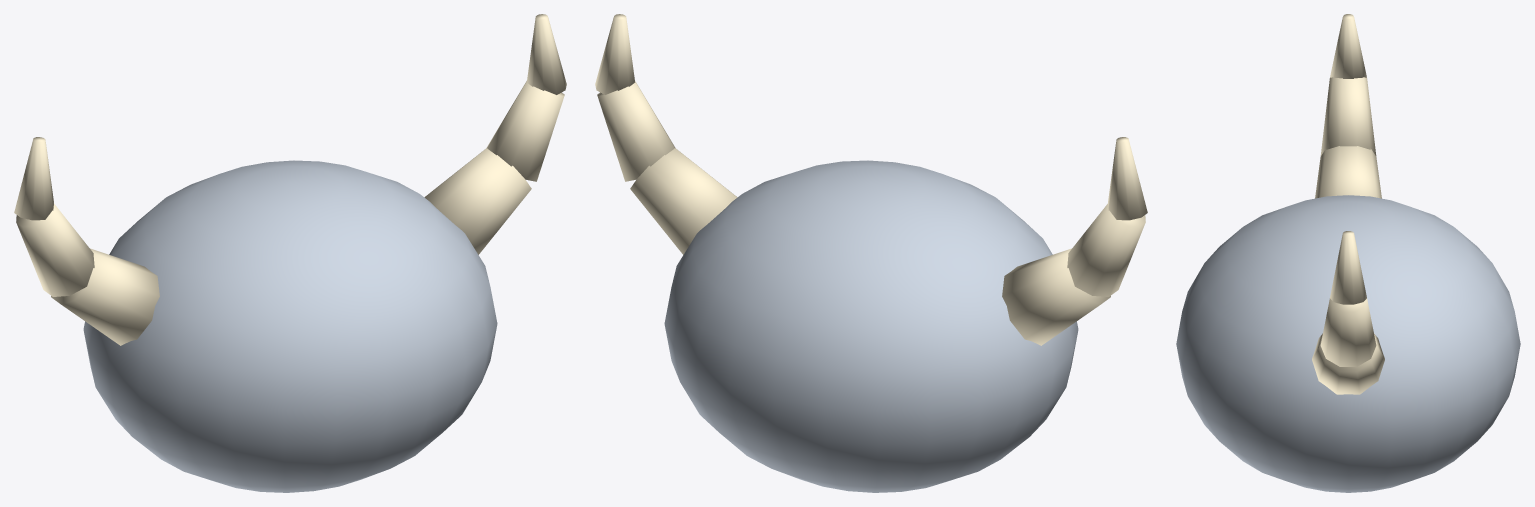
File: acc_viking.glb
3 renders of one model, left to right at view 1: azimuth 30°, elevation 25°; view 2: azimuth 150°, elevation 25°; view 3: azimuth 270°, elevation 25°, orthographic. The views are drawn at different scales.
Parts seen in each view (by area): view 1: VikingHelm, VikingHorns; view 2: VikingHelm, VikingHorns; view 3: VikingHelm, VikingHorns.
Part boxes in pixels (x1,y1,x2,y2): VikingHelm: (83,160,497,492); VikingHorns: (14,14,566,345); VikingHelm: (664,160,1078,492); VikingHorns: (595,14,1147,345); VikingHelm: (1176,195,1520,492); VikingHorns: (1312,14,1384,394).
Size of the model in its own units: 1.2 by 0.8208 by 0.74.
